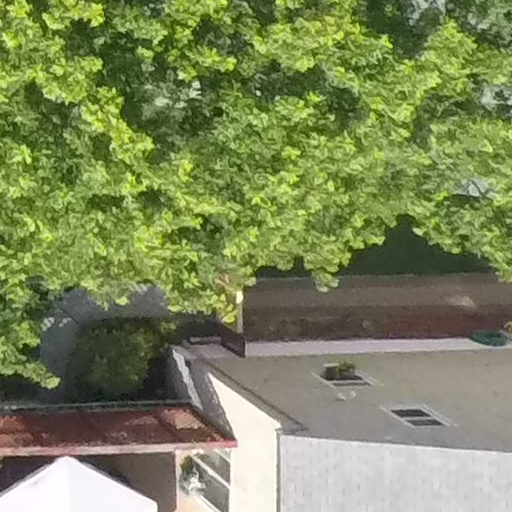hose: (467, 322, 508, 351)
